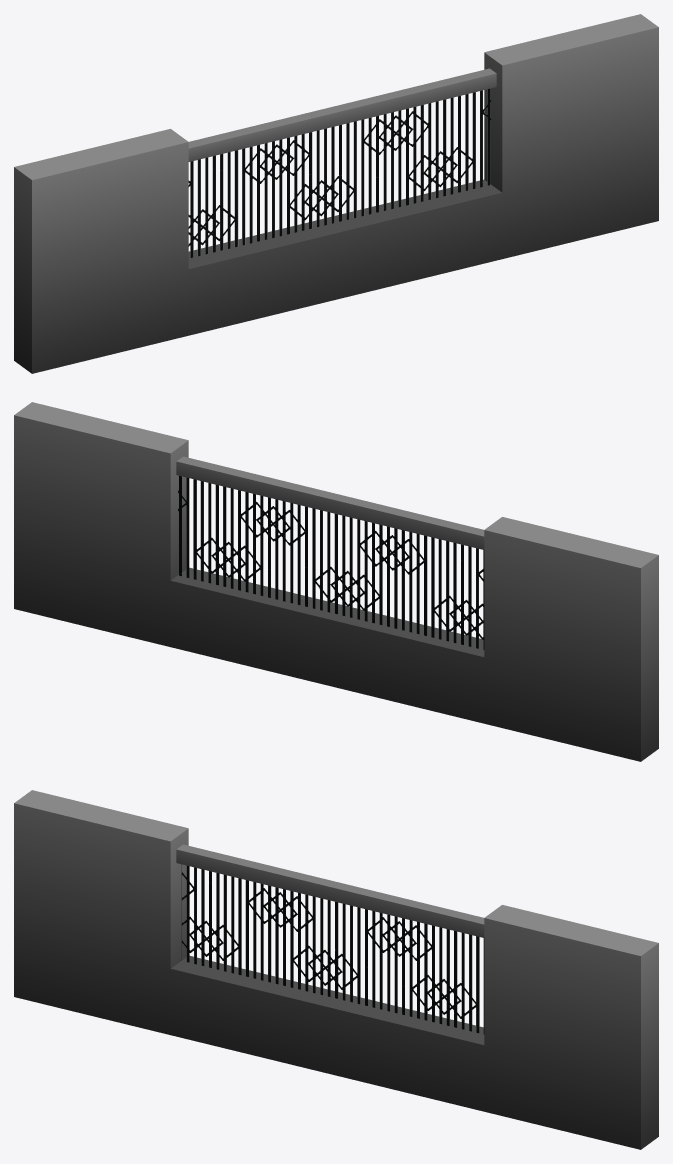
Rendered from PagerK2.fbx.
The picture shows the model from 3 angles, top to bottom: view 1: azimuth 30°, elevation 25°; view 2: azimuth 150°, elevation 25°; view 3: azimuth 330°, elevation 25°; orthographic projection.
Parts seen in each view (by area): view 1: PagerK2_LOD0; view 2: PagerK2_LOD0; view 3: PagerK2_LOD0.
Boxes of the visible parts, <box> form: PagerK2_LOD0: <box>14,14,658,373</box>; PagerK2_LOD0: <box>14,402,658,761</box>; PagerK2_LOD0: <box>14,790,658,1149</box>.
Size of what is drawn, in the model's own units: 486 by 143 by 24.28.
